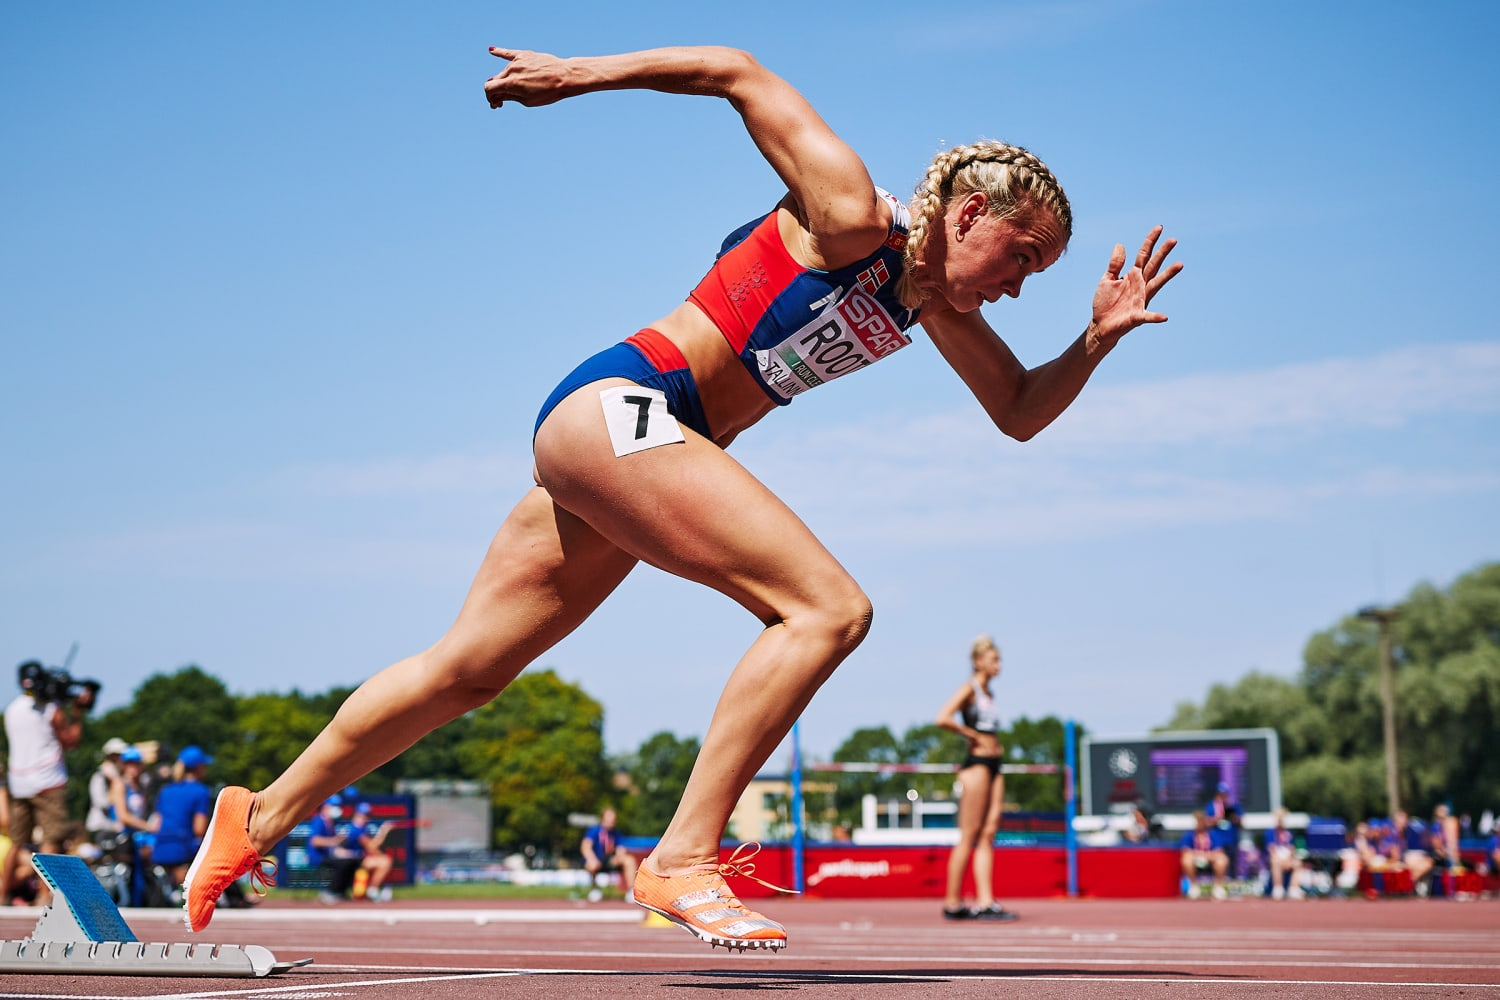runner: (183, 42, 1184, 955)
